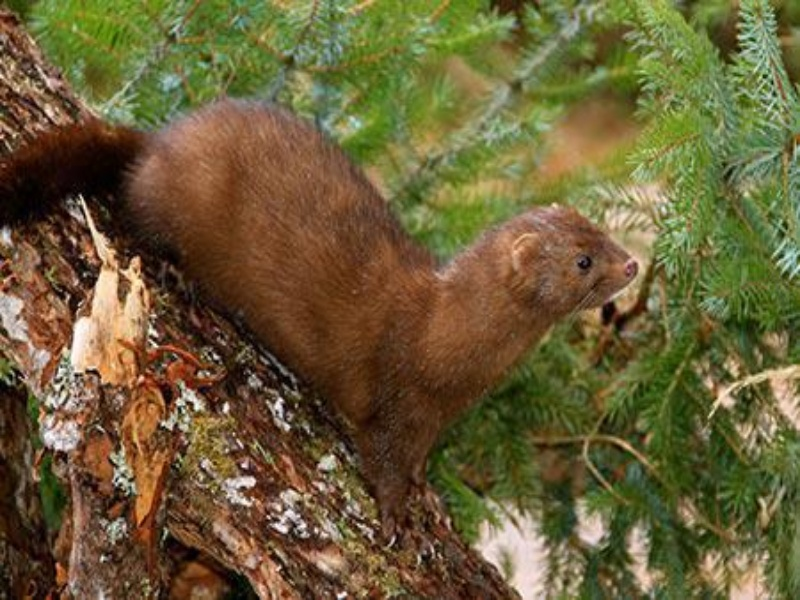minkish: (1, 91, 643, 549)
